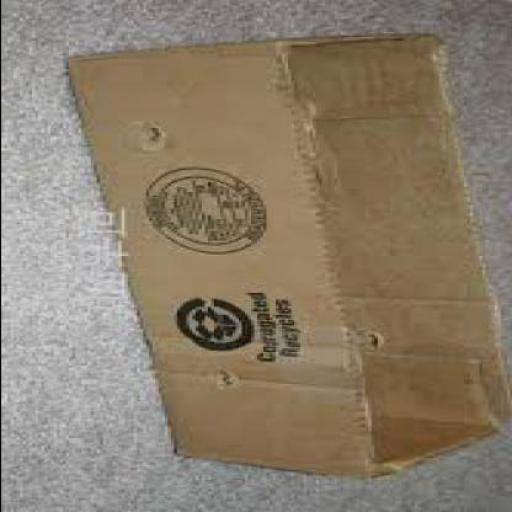cardboard: (68, 30, 510, 478)
